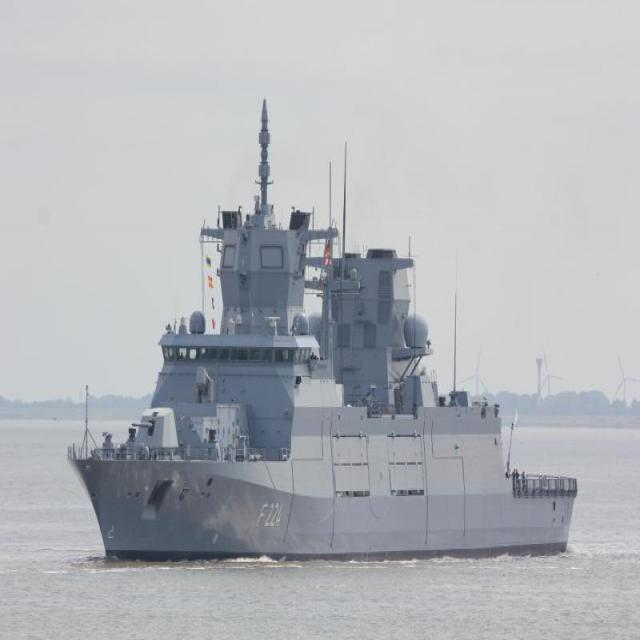Fragata: (60, 102, 581, 576)
